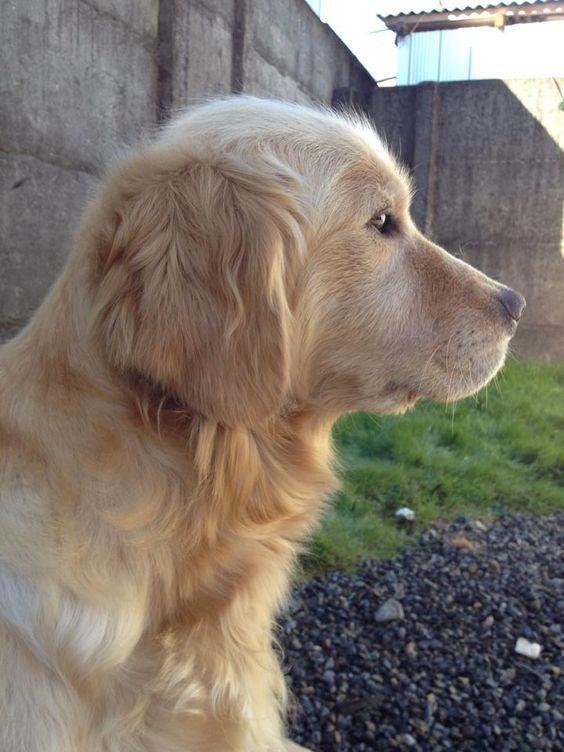adult_dog: (0, 88, 536, 752)
